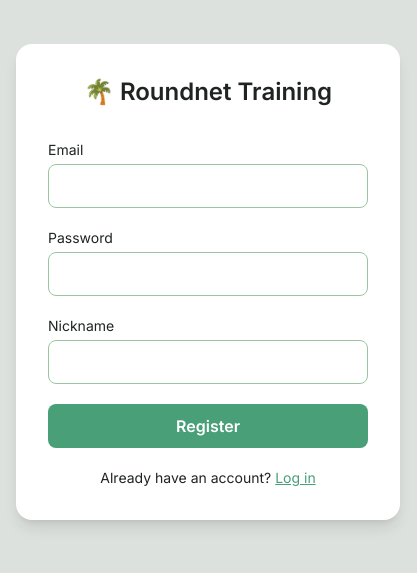
RegisterPage › displays error message when registration fails
Type "alice@example.com" into the field labelled "Email".
click(208, 186); type("alice@example.com")  # box [48,164,368,208]
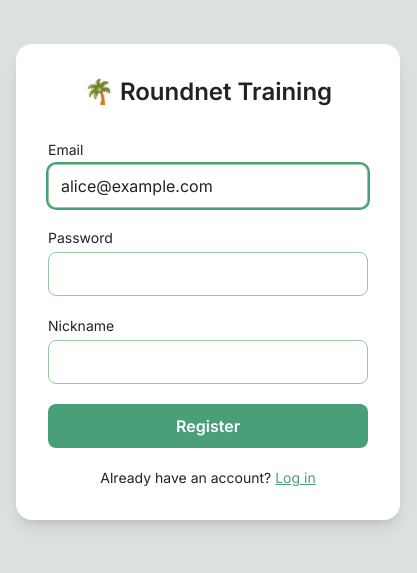
Type "pw" into the password field labelled "Password".
click(208, 274); type("pw")  # box [48,252,368,296]
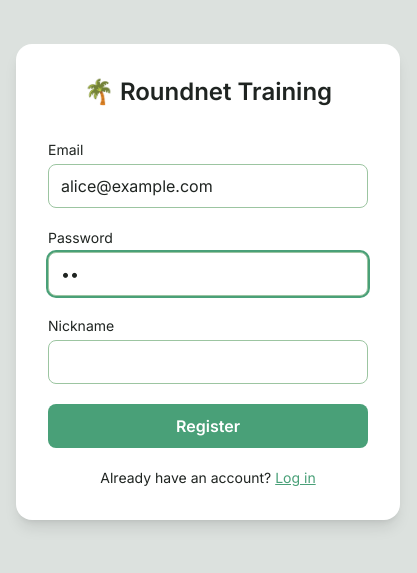
Click the button "Register".
click(208, 426)  # box [48,404,368,448]
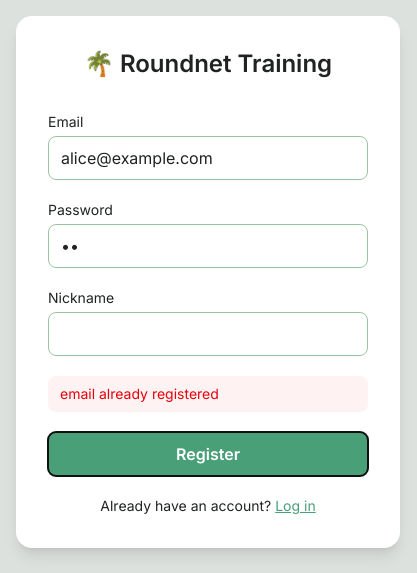
Check: the message "email already registered" is shown, box [48,376,368,412]
